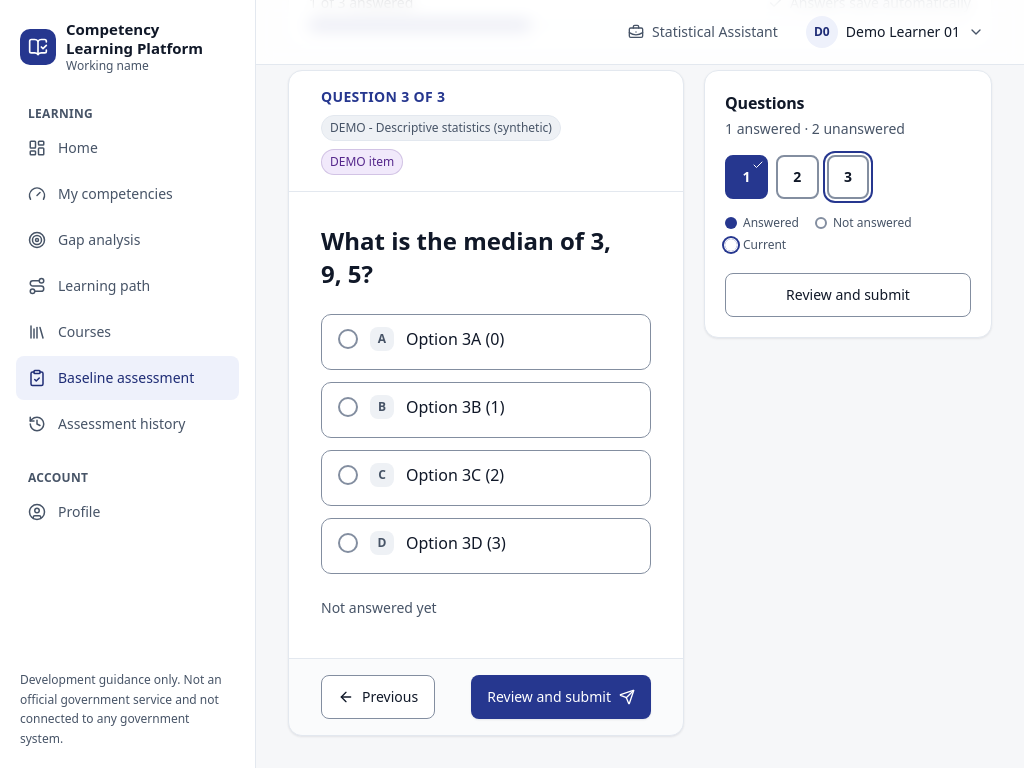
Test: taking an assessment › confirms before submitting, lists unanswered questions and opens the result
(page scrolled)
Click the button "Review and submit" below "Not answered yet" at (561, 697), box [471,675,651,719]
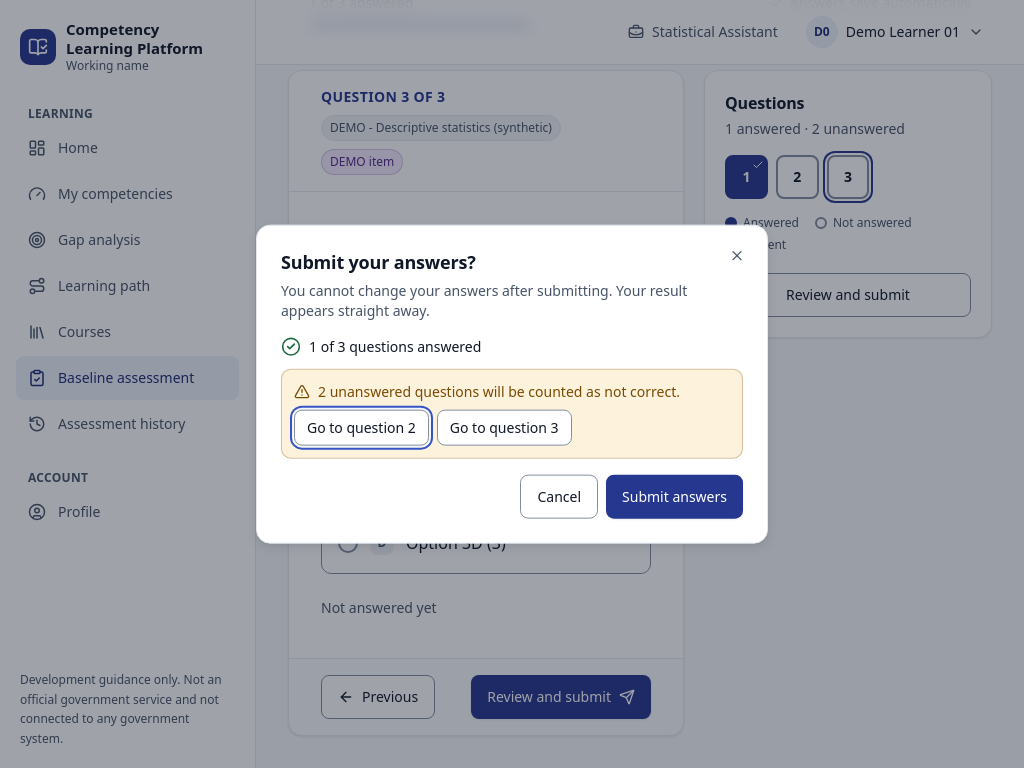
Now the text "1 of 3 questions answered" is shown, box [281,336,481,356]
Now the text "2 unanswered questions will be counted as not correct." is shown, box [294,381,730,401]
Click the button "Go to question 2" at (361, 427), box [294,409,429,445]
(page scrolled)
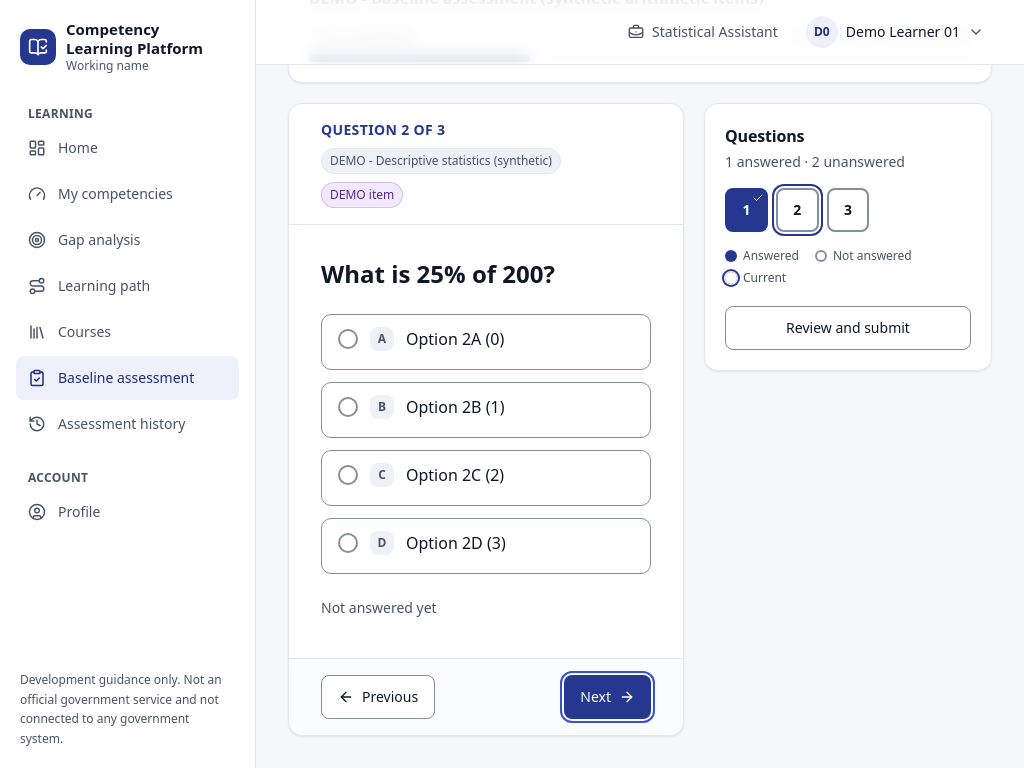
Now the heading "Question 2 of 3" is shown, box [321,120,445,140]
Click the button "Review and submit" at (848, 328), box [725,306,971,350]
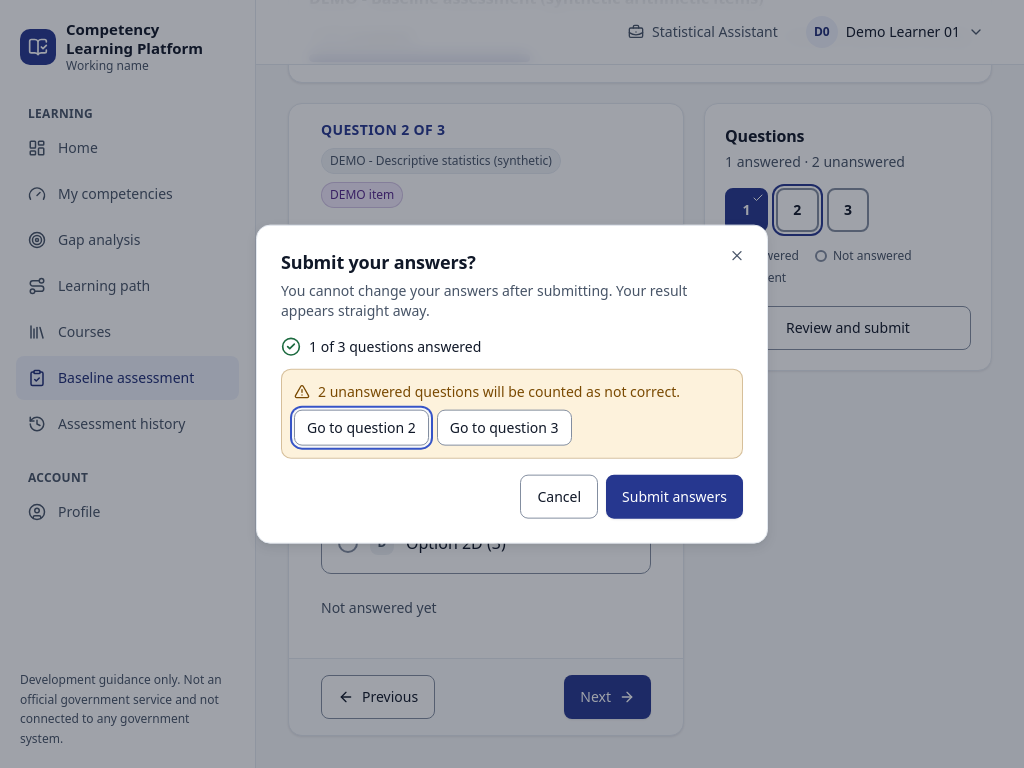
Click the button "Submit answers" at (674, 496), box [606,474,743,518]
(page scrolled)
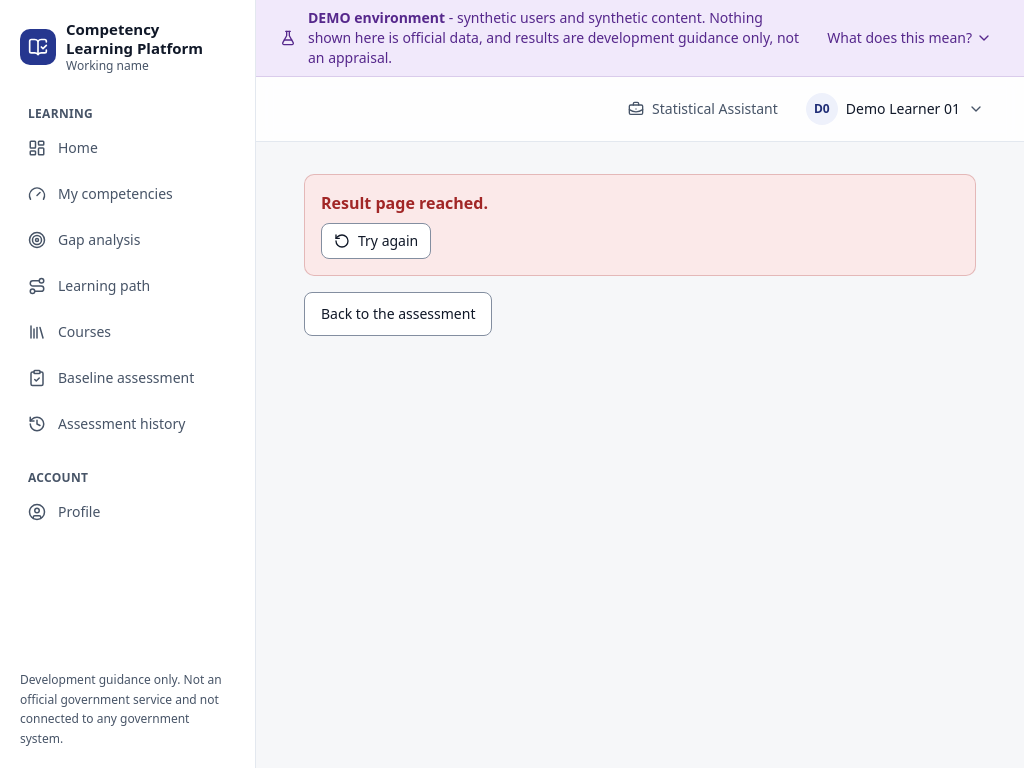
Now the text "Result page reached." is shown, box [321,191,488,215]
